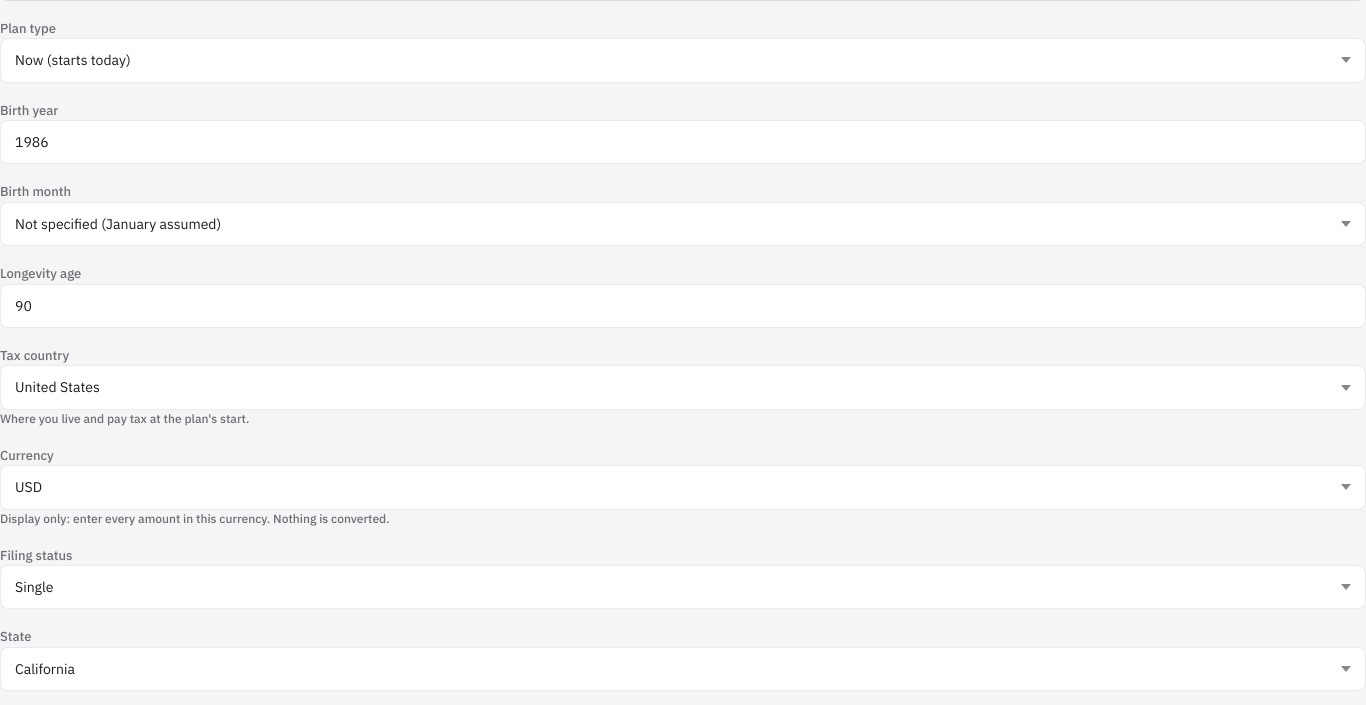
Scenario: lists the registry's countries and asks before switching, naming the US settings that stop
Select "Fixture country" in the dropdown labelled "Tax country" at [683, 388], box [0,366,1365,410]
(page scrolled)
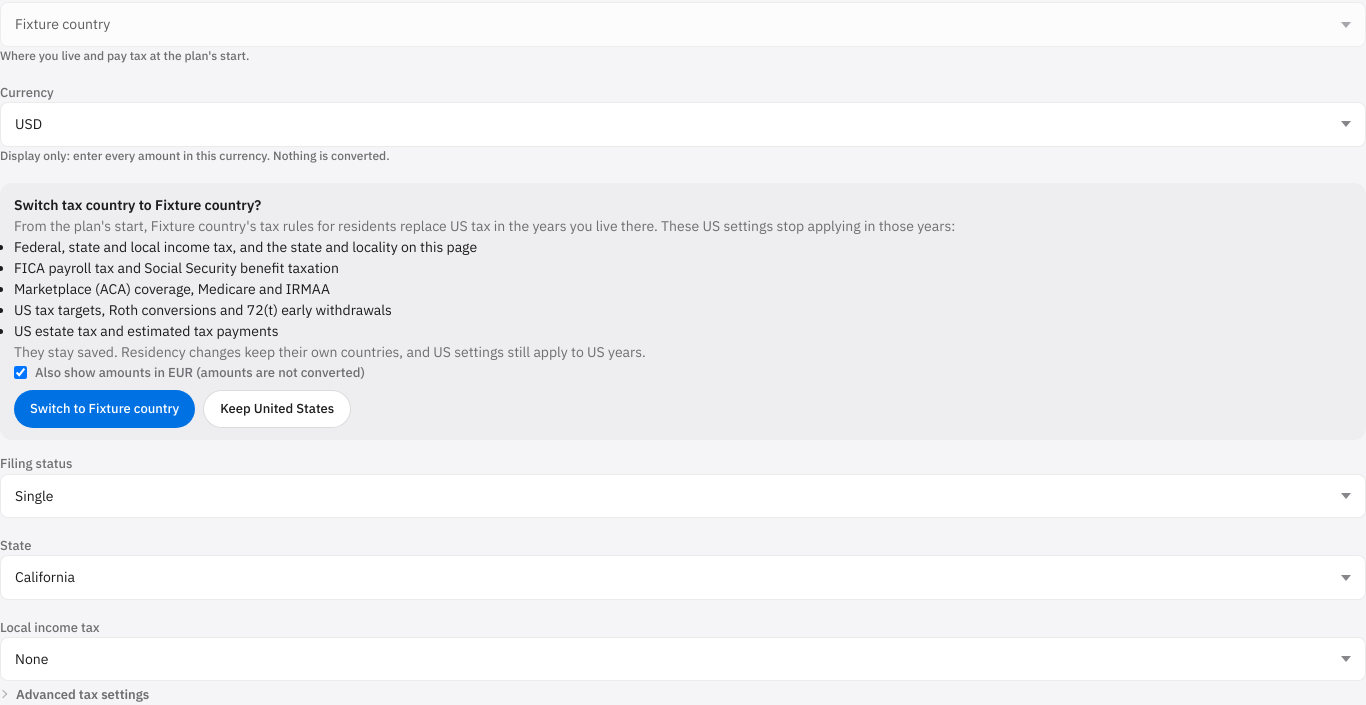
Now the dialog "Switch tax country to Fixture country?" shows "Marketplace (ACA) coverage, Medicare and IRMAA", box [14,280,330,298]
Now the dialog "Switch tax country to Fixture country?" shows "They stay saved.", box [14,343,646,361]
Click the button "Keep United States" at [277, 409], box [203,390,351,428]
(page scrolled)
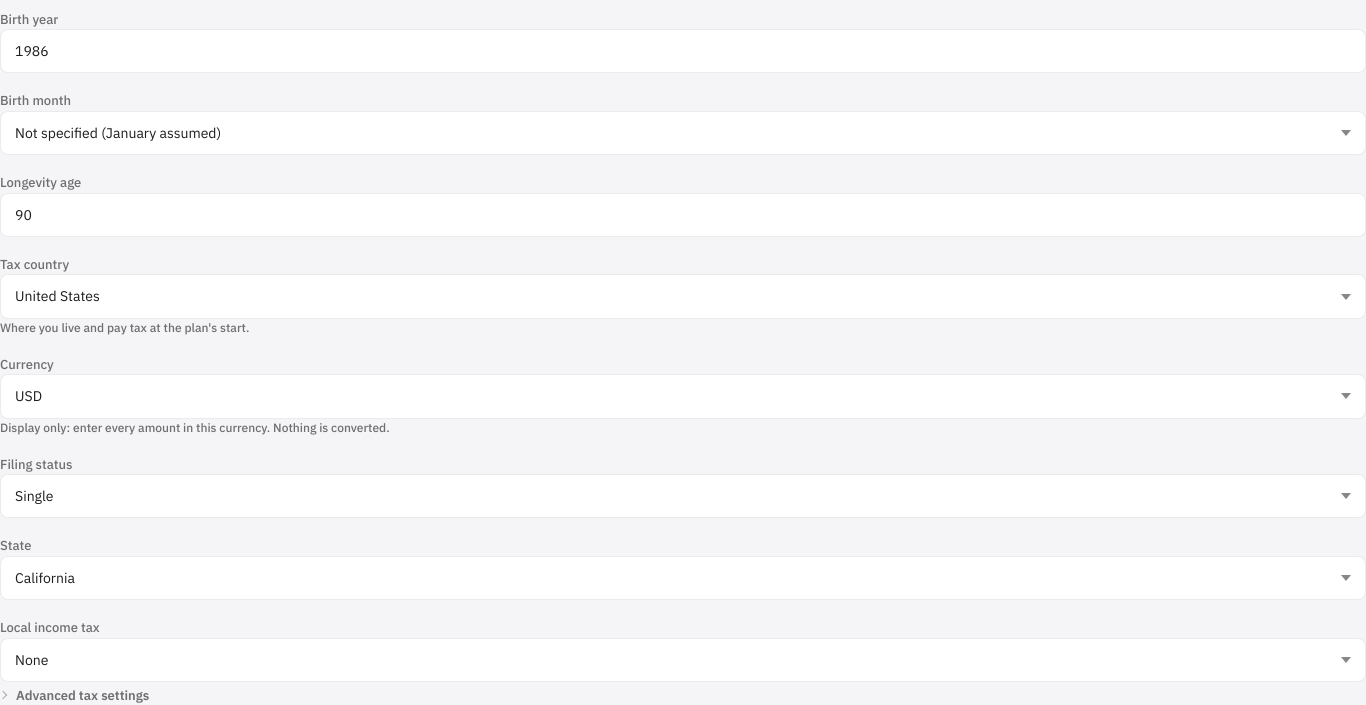
Now the dialog is gone
Select "Fixture country" in the dropdown labelled "Tax country" at [683, 297], box [0,274,1365,319]
(page scrolled)
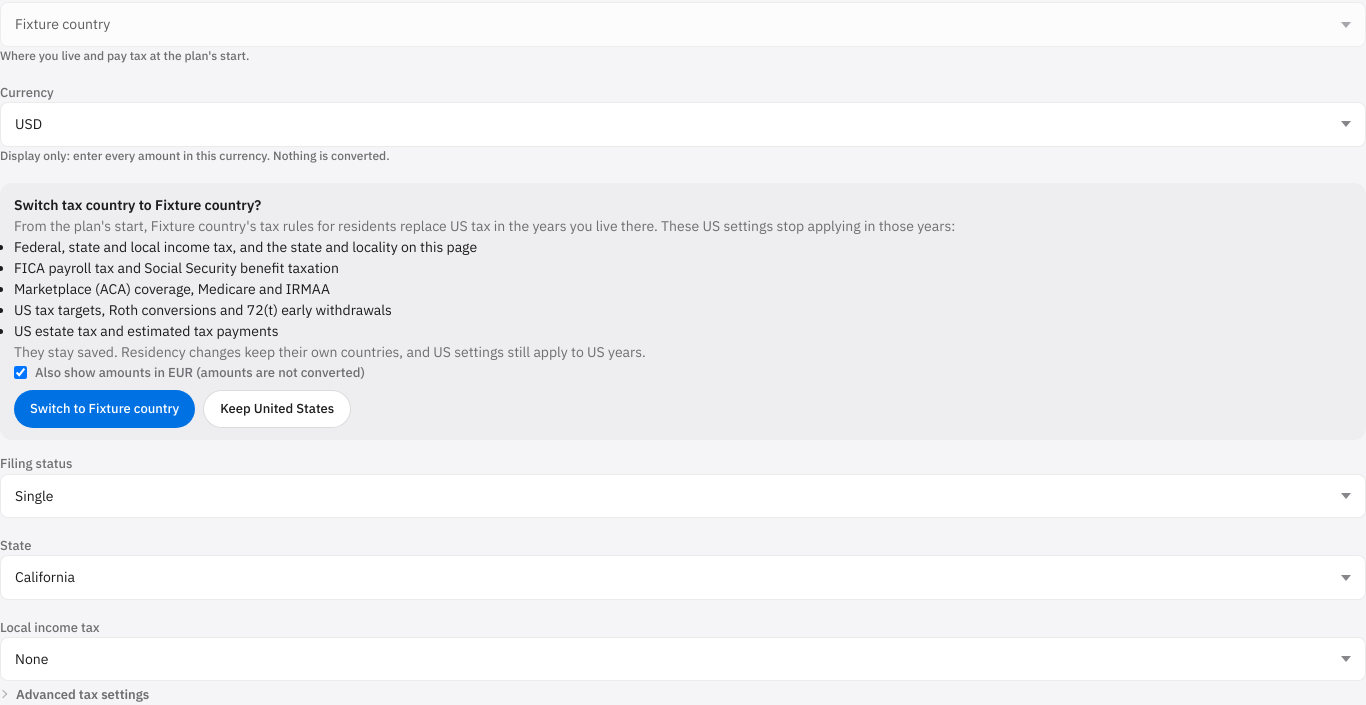
Click the button "Switch to Fixture country" at [105, 409], box [14,390,195,428]
(page scrolled)
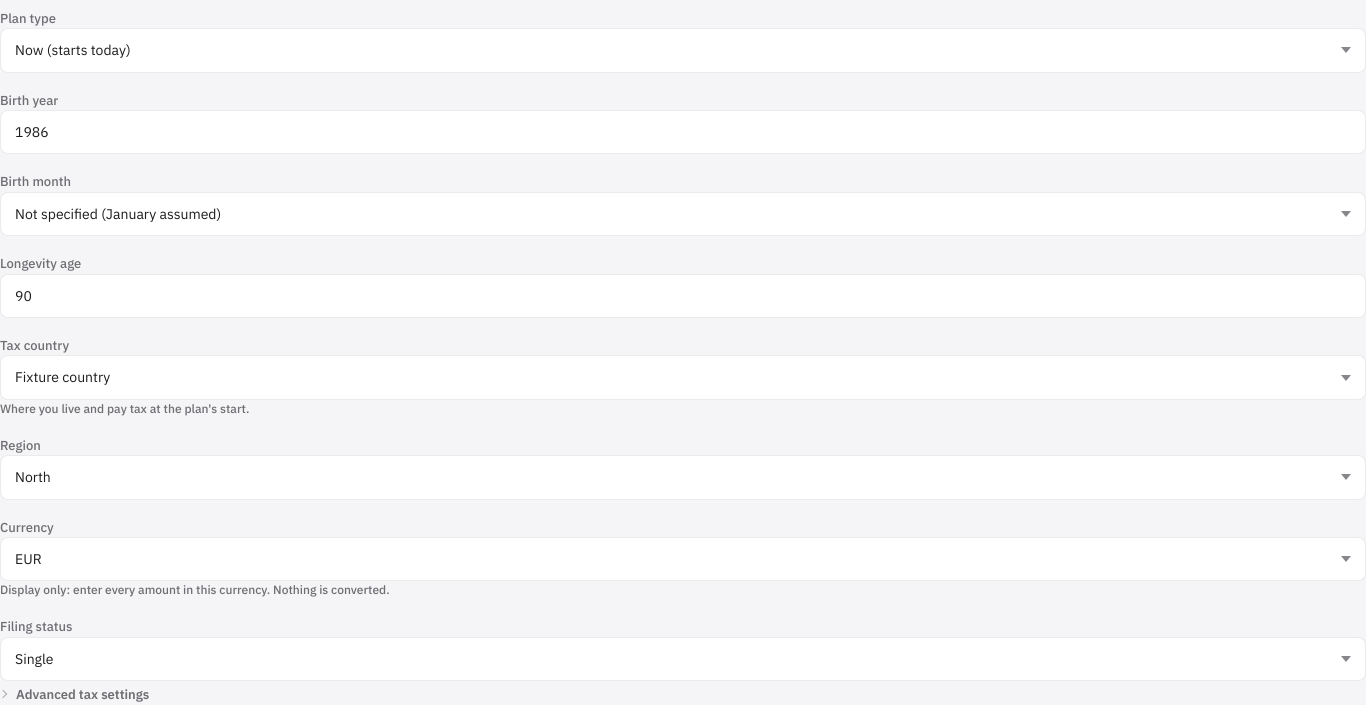
Now the dropdown labelled "Region" shows "North", box [0,455,1365,500]
